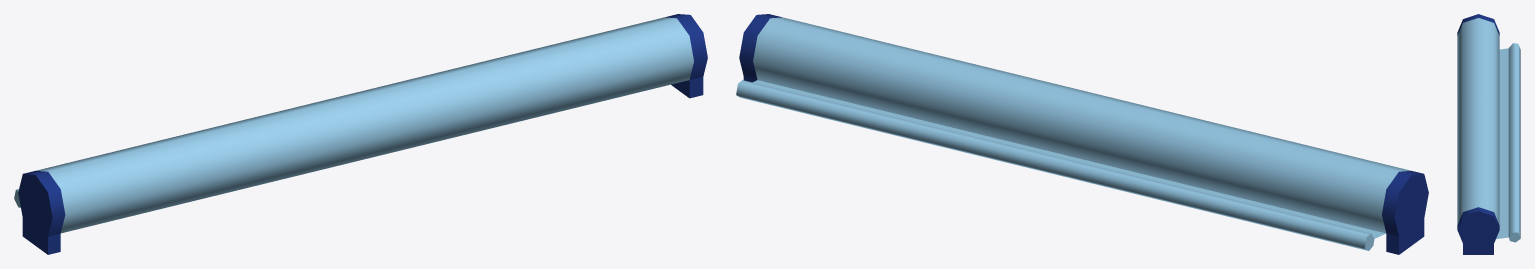
The model's file is Prop_curtain_b.fbx.
3 renders of one model, left to right at view 1: azimuth 30°, elevation 25°; view 2: azimuth 150°, elevation 25°; view 3: azimuth 270°, elevation 25°, orthographic. The views are drawn at different scales.
Parts seen in each view (by area): view 1: Prop_curtain_b; view 2: Prop_curtain_b; view 3: Prop_curtain_b.
Boxes of the visible parts, x1,y1,x2,y2 form: Prop_curtain_b: (14,14,707,254); Prop_curtain_b: (736,14,1428,254); Prop_curtain_b: (1457,14,1520,254).
Bounding box in the file's own units: 44.76 × 6.07 × 4.63.
